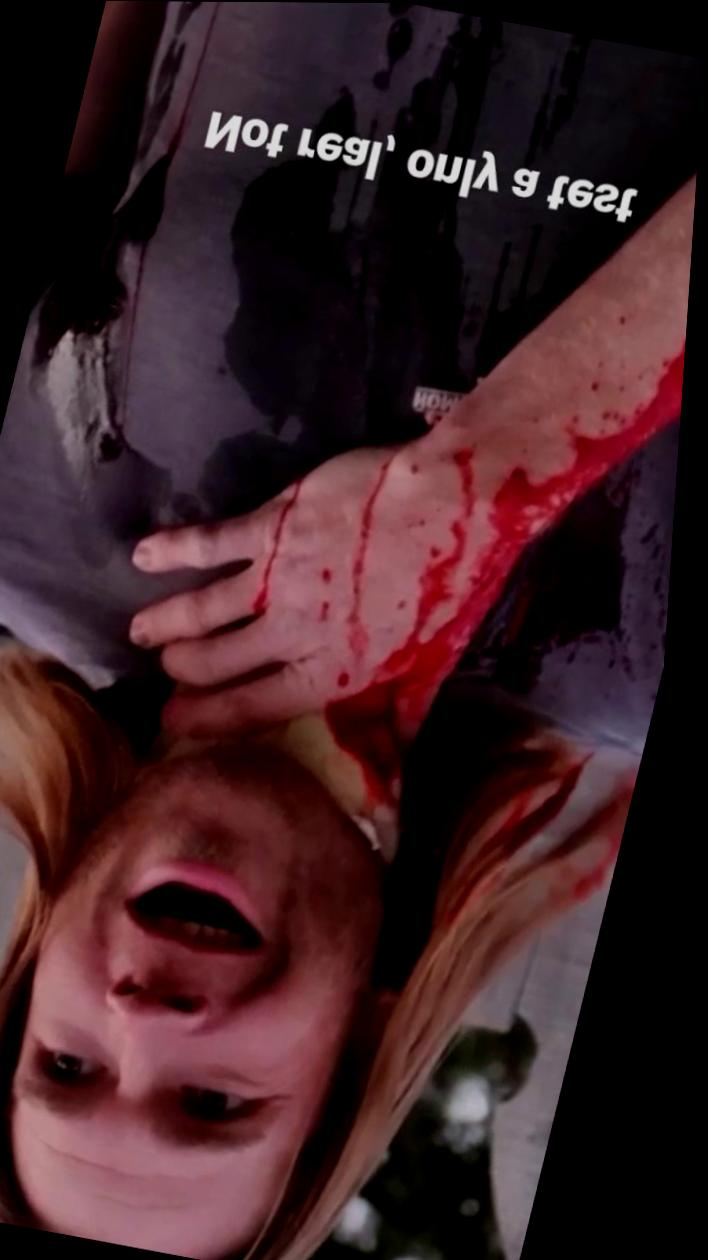Fire: (336, 275, 692, 795), (469, 462, 643, 692), (357, 444, 400, 620), (256, 476, 310, 615), (269, 510, 283, 556)
